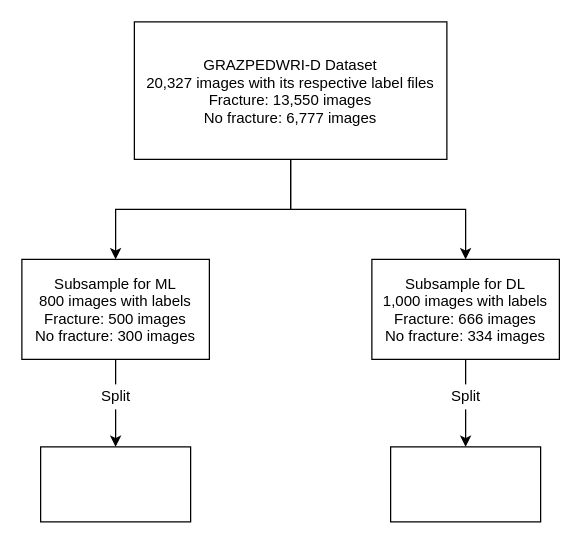
Image size: 581x544. Some labels were removed from this diagram. Each missing label, with the centre of its shape:
Train: 70% Validation: 10% Test: 20 %: point 465,484
TrainVal: 75% Test: 25%: point 115,484
